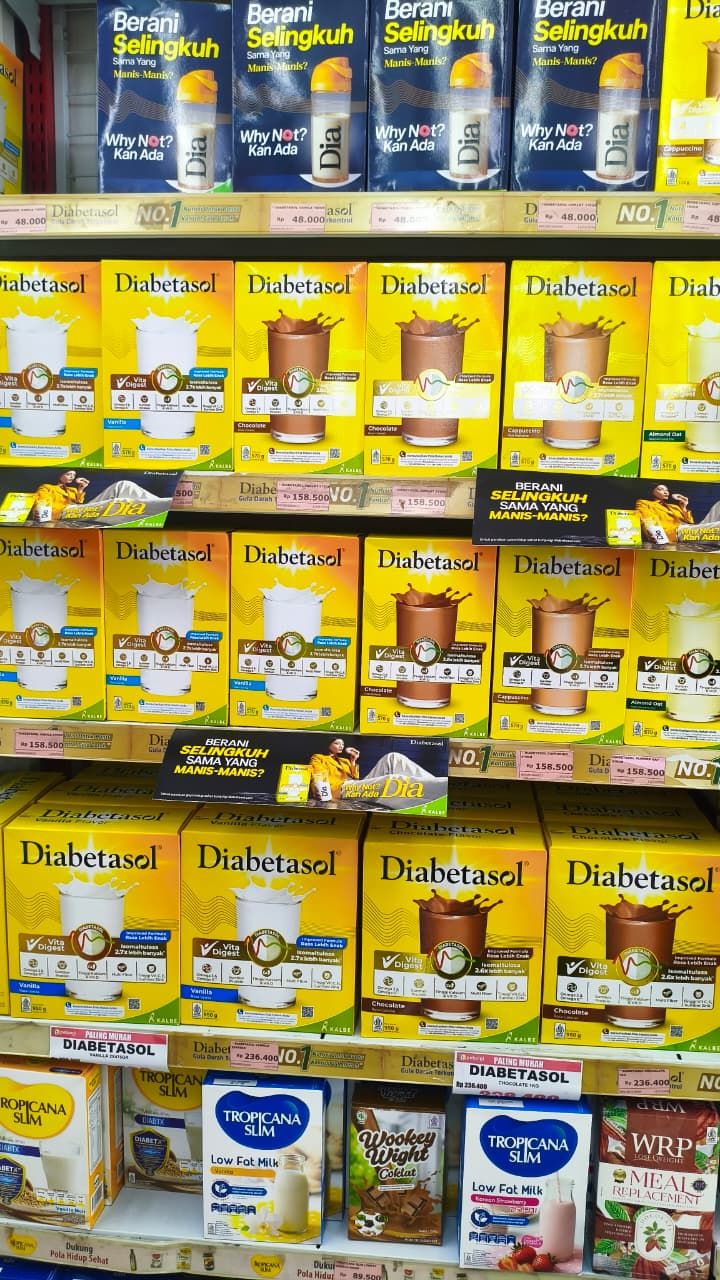Diabetasol: (9, 813, 176, 1002), (374, 833, 540, 1006), (186, 825, 355, 994), (235, 519, 361, 679), (369, 537, 495, 697), (514, 237, 640, 397), (376, 226, 502, 386), (236, 262, 362, 422), (103, 241, 229, 401)
Tropicana Slim: (461, 1072, 587, 1232)
